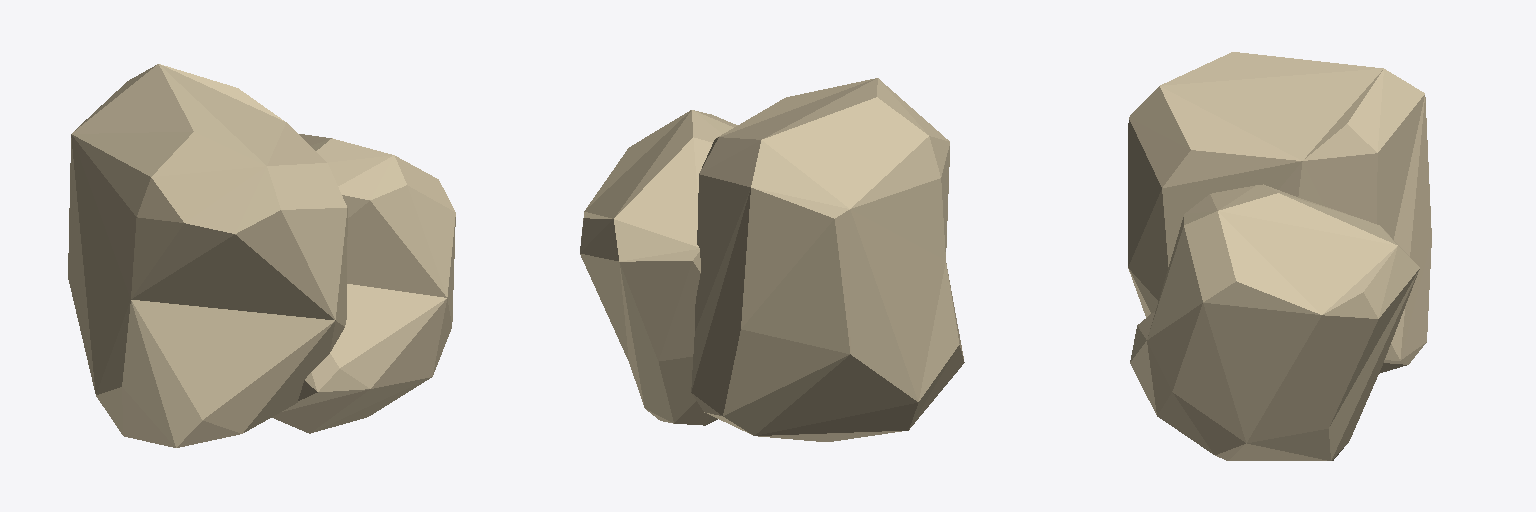
3 renders of one model, left to right at view 1: azimuth 30°, elevation 25°; view 2: azimuth 150°, elevation 25°; view 3: azimuth 270°, elevation 25°, orthographic.
Parts seen in each view (by area): view 1: 右上腕; view 2: 右上腕; view 3: 右上腕.
Boxes of the visible parts, <box> form: 右上腕: <box>68,64,455,447</box>; 右上腕: <box>580,78,964,441</box>; 右上腕: <box>1128,52,1431,460</box>.
Size of the model in its own units: 0.9789 by 0.9498 by 0.7913.
1 materials, 1 textured.